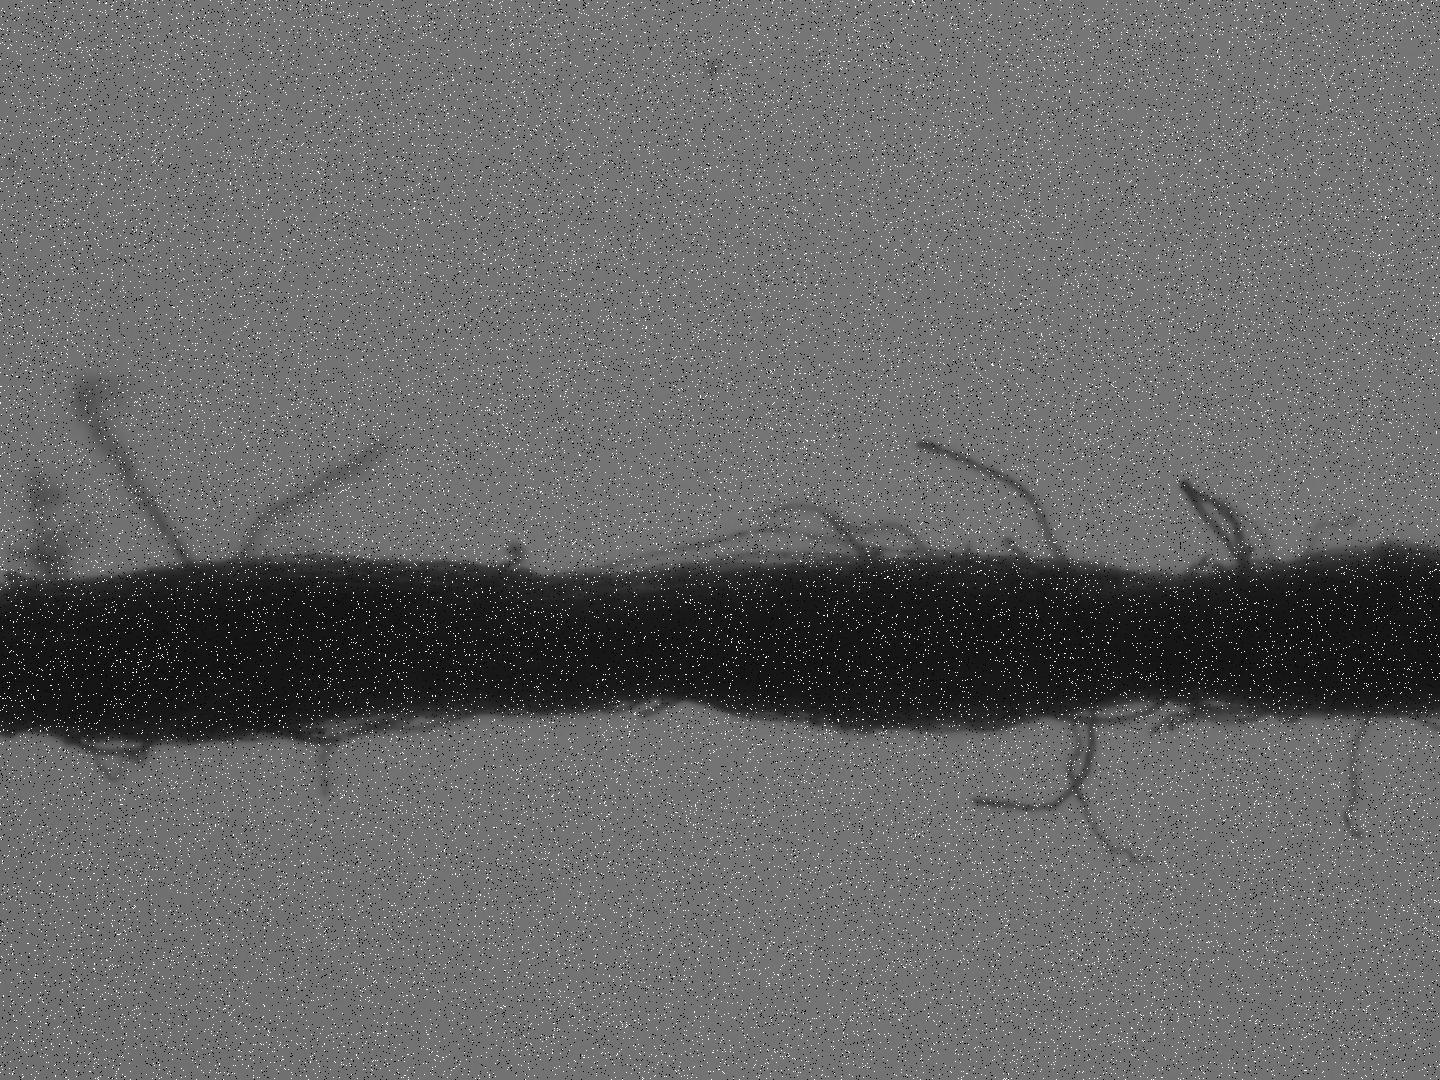loop_fiber: (598, 531, 957, 576), (1183, 480, 1254, 568), (274, 711, 414, 751), (696, 550, 853, 569), (1062, 699, 1168, 722), (1179, 700, 1262, 726), (69, 739, 153, 760), (610, 693, 645, 717)
protruding_fiber: (85, 387, 200, 569), (917, 433, 1069, 566), (237, 442, 378, 566), (973, 709, 1096, 813), (1346, 719, 1377, 841)
